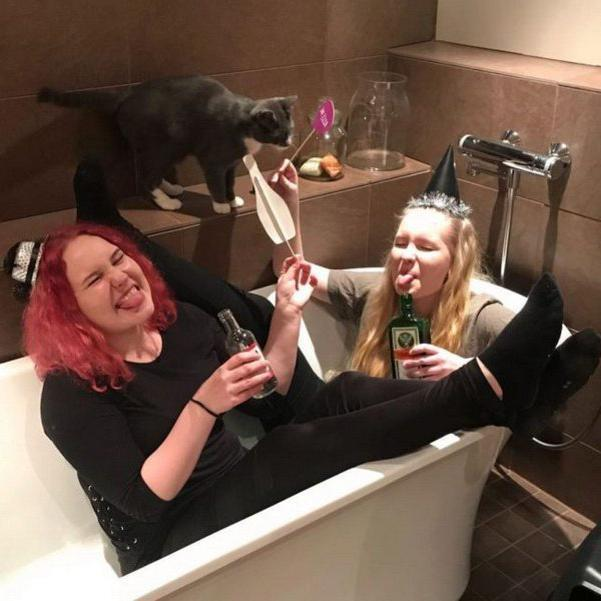Drunk: (69, 244, 144, 327), (388, 209, 446, 294)
